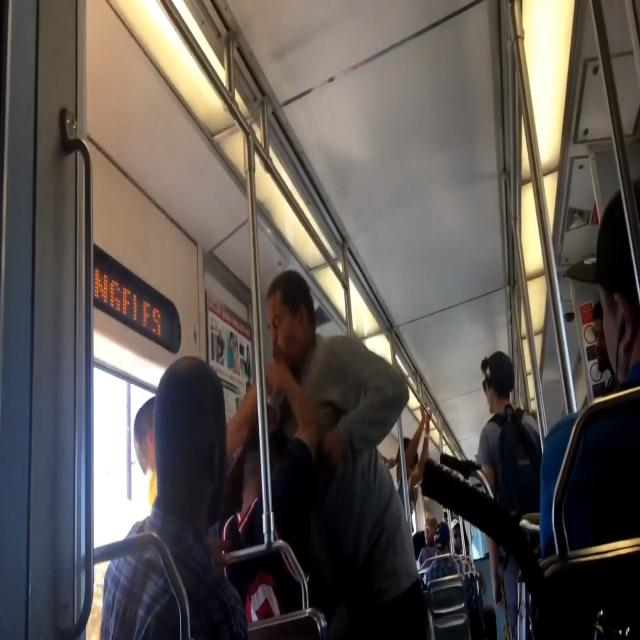fight: (192, 245, 422, 640)
